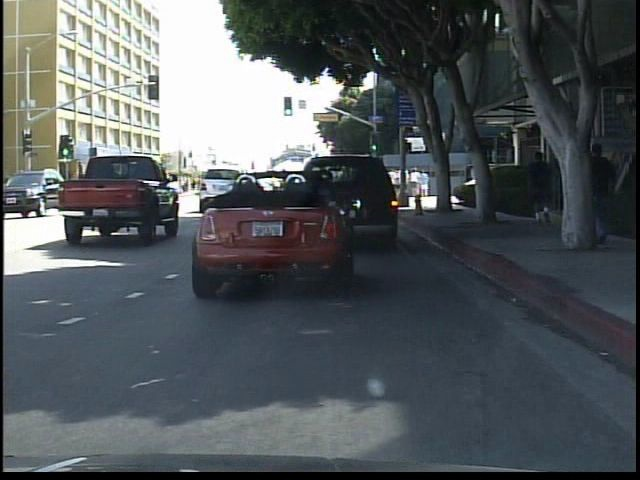person: (580, 136, 624, 255), (524, 149, 560, 230), (148, 172, 166, 200)
